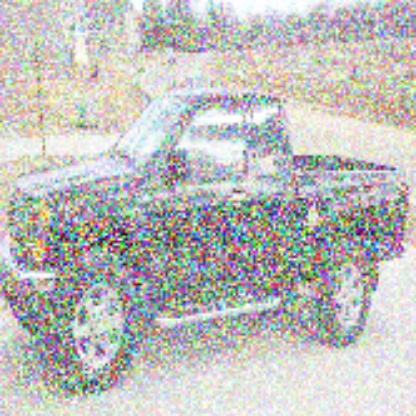Vehicle: (0, 80, 413, 397)
